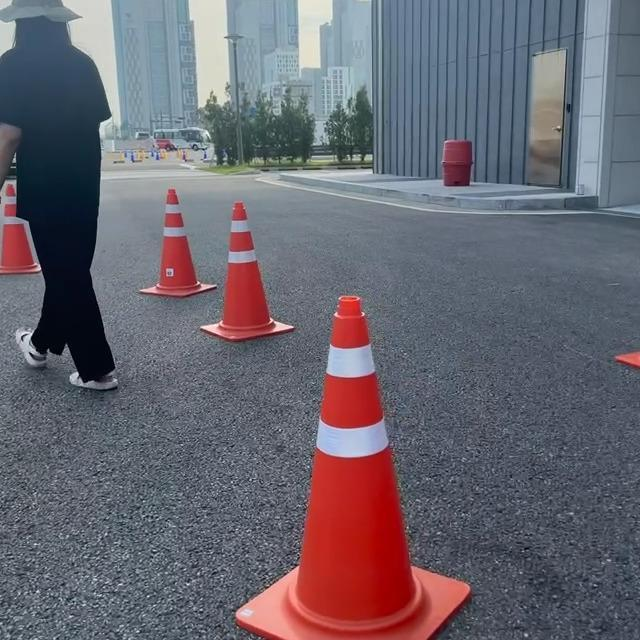fallen_object: (299, 272, 432, 614), (209, 183, 273, 370), (139, 199, 196, 348)
